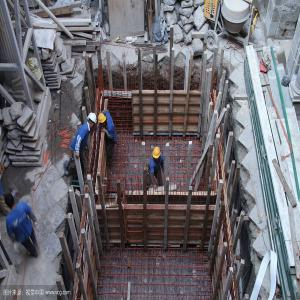none: (6, 195, 16, 211)
white: (88, 115, 98, 128)
yellow: (153, 147, 162, 163), (99, 114, 107, 128)
